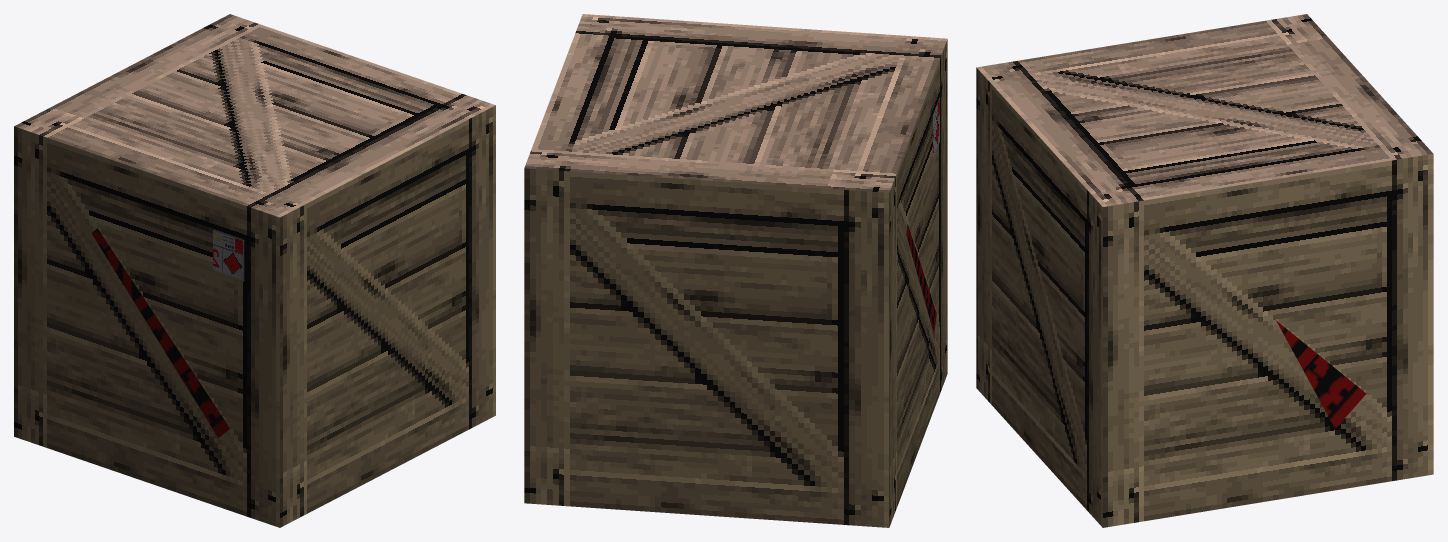
Rendered from primary_363.glb.
3 renders of one model, left to right at view 1: azimuth 30°, elevation 25°; view 2: azimuth 150°, elevation 25°; view 3: azimuth 270°, elevation 25°, orthographic. The views are drawn at different scales.
Parts seen in each view (by area): view 1: Object; view 2: Object; view 3: Object.
Boxes of the visible parts, box(x1,y1,x2,y2) form: Object: box(14, 14, 495, 527); Object: box(524, 14, 947, 527); Object: box(976, 14, 1433, 527).
Size of the model in its own units: 1.23 by 0.9497 by 1.23.
Materials: 7 (7 with a texture image).
